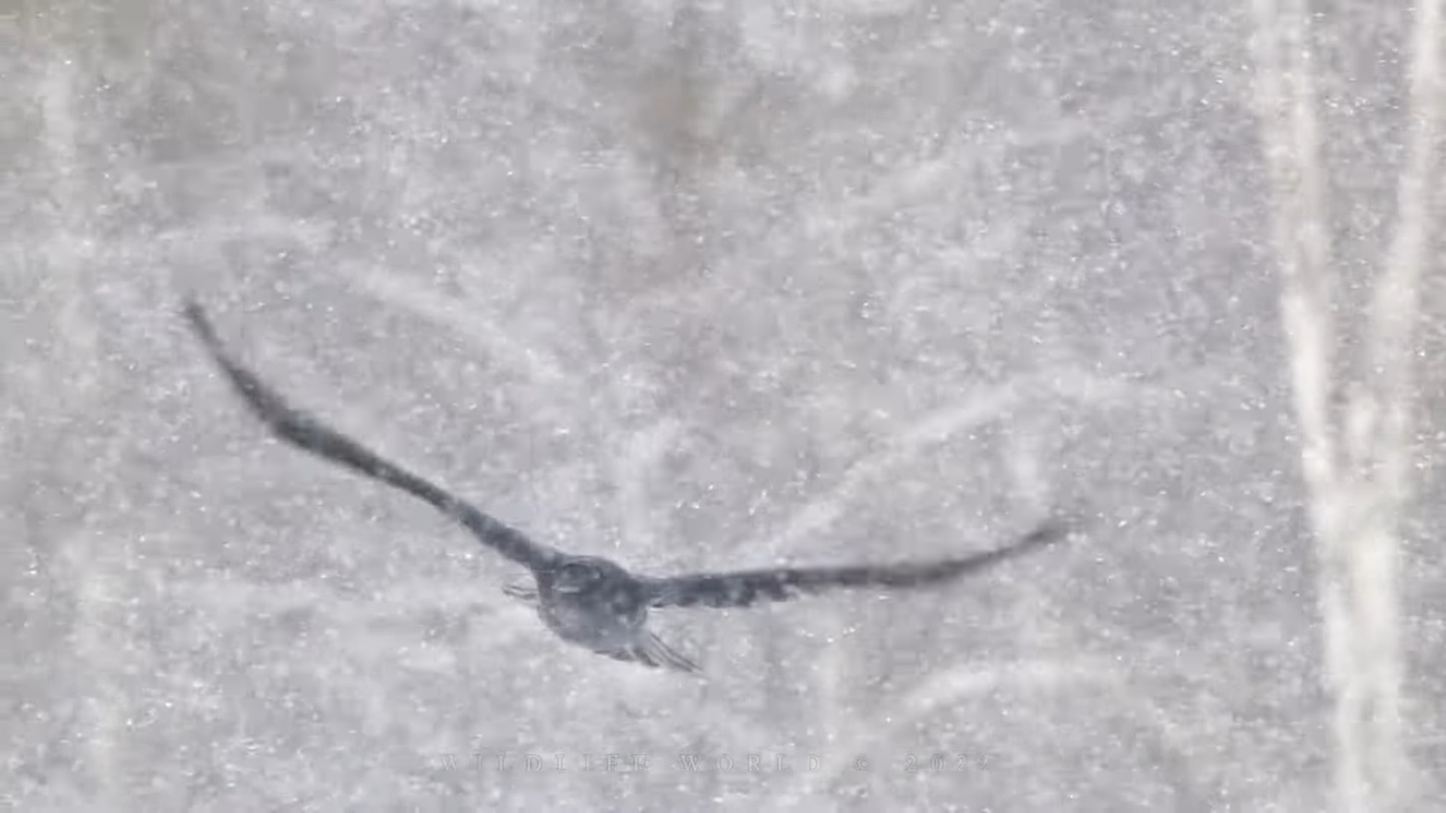not_drone: (183, 301, 1060, 688)
